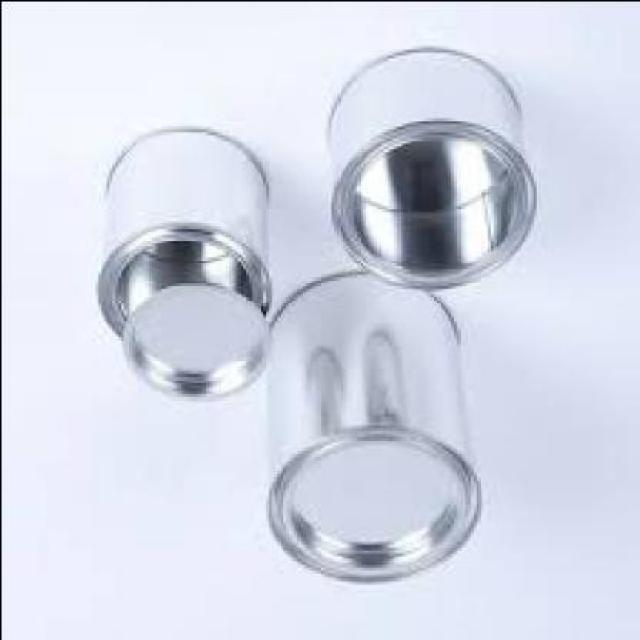metal: (263, 275, 475, 583), (318, 49, 532, 294), (93, 128, 264, 342), (113, 287, 264, 398)
